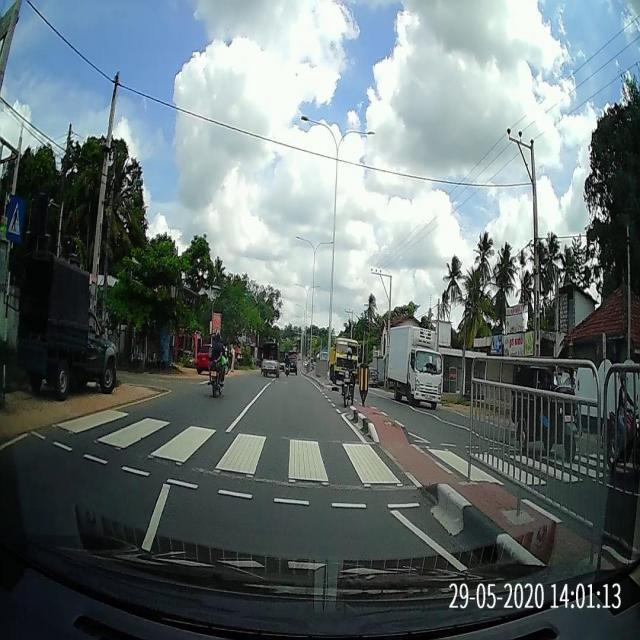Crosswalk: (20, 404, 640, 514)
